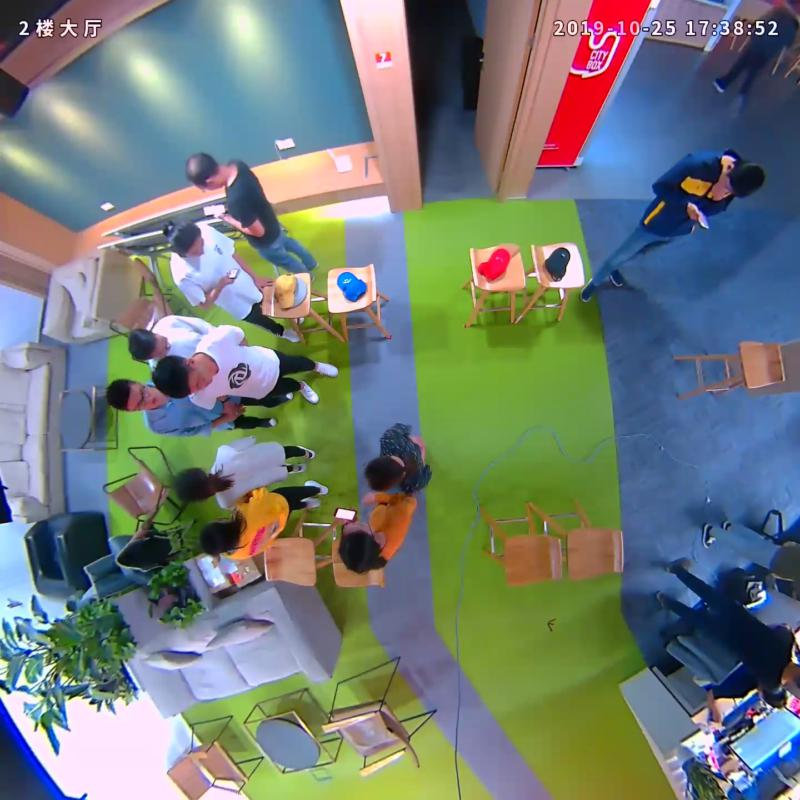head: (151, 354, 213, 400), (338, 521, 382, 575), (106, 378, 160, 412), (717, 163, 766, 199), (183, 151, 224, 191), (126, 326, 170, 361), (166, 221, 206, 259), (365, 454, 405, 490), (200, 520, 237, 557), (175, 468, 211, 503)
